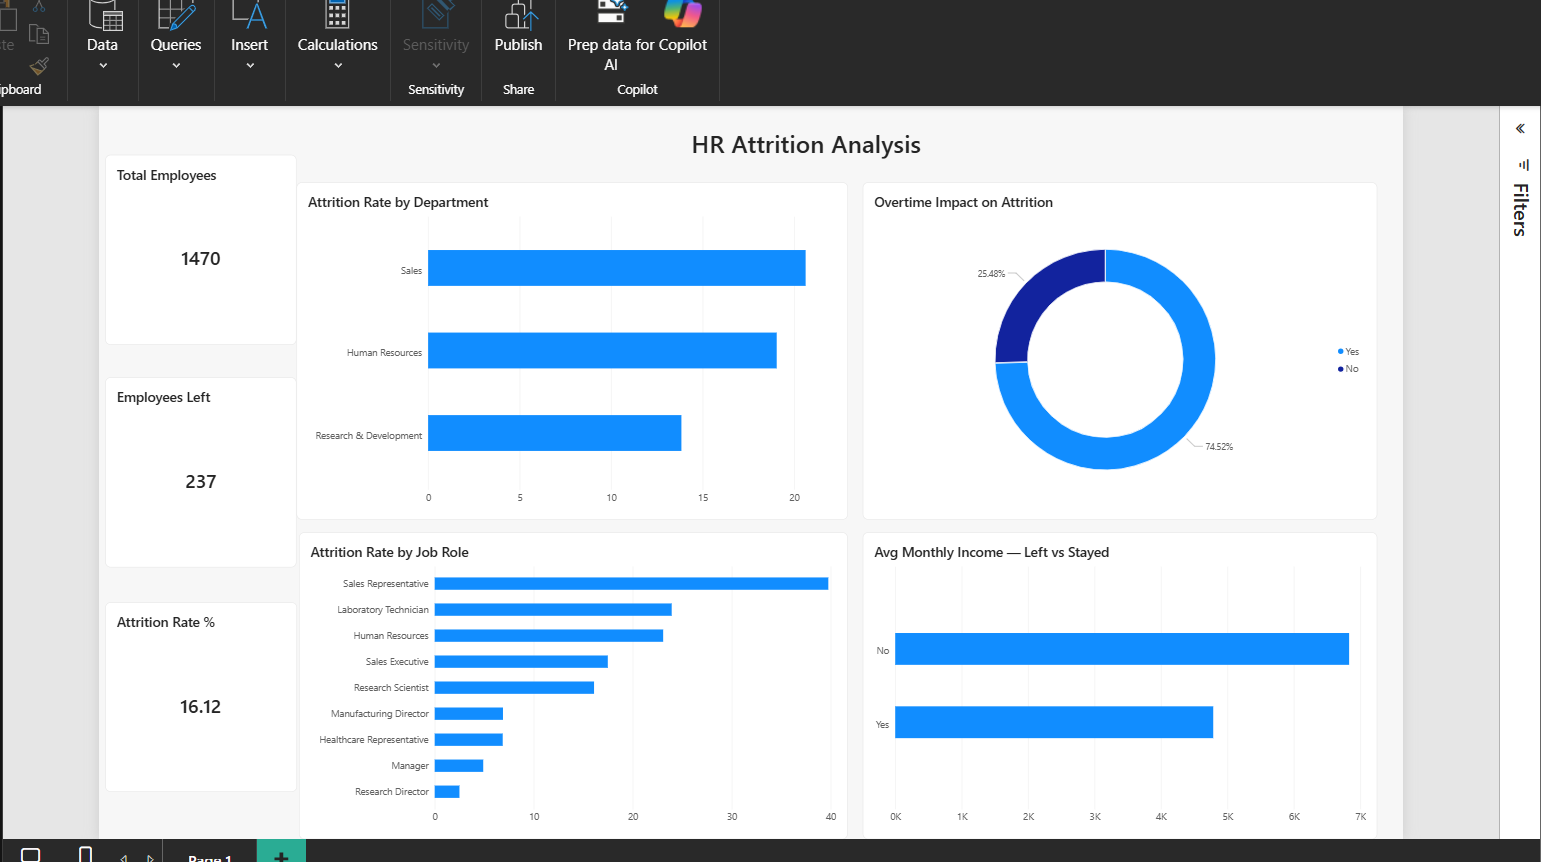

The page's visual inventory and layout, read from the dashboard file:
{"tool":"powerbi","page":{"name":"Page 1","canvas":[1920,1080],"ordinal":0},"visuals":[{"type":"card","title":"Total Employees","fields":{"Values":["CountNonNull(WA_Fn-UseC_-HR-Employee-Attrition.EmployeeCount)"]},"box":[9.3,70.9,281.8,279.9],"z":0},{"type":"card","title":"Employees Left","fields":{"Values":["WA_Fn-UseC_-HR-Employee-Attrition.Employees_Left"]},"box":[9.3,399.4,281.8,279.9],"z":1000},{"type":"card","title":"Attrition Rate  %","fields":{"Values":["WA_Fn-UseC_-HR-Employee-Attrition.Attrition_Rate"]},"box":[8.6,730.9,282,279.1],"z":2000},{"type":"clusteredBarChart","title":"Attrition Rate by Department","fields":{"Category":["WA_Fn-UseC_-HR-Employee-Attrition.Department"],"Y":["WA_Fn-UseC_-HR-Employee-Attrition.Attrition_Rate"]},"box":[291.1,112,811.8,496.4],"z":3000},{"type":"donutChart","title":"Overtime Impact on Attrition","fields":{"Category":["WA_Fn-UseC_-HR-Employee-Attrition.OverTime"],"Y":["WA_Fn-UseC_-HR-Employee-Attrition.Attrition_Rate"]},"box":[1125.4,112,757.7,496.4],"z":4000},{"type":"clusteredBarChart","title":"Attrition Rate by Job Role","fields":{"Category":["WA_Fn-UseC_-HR-Employee-Attrition.JobRole"],"Y":["WA_Fn-UseC_-HR-Employee-Attrition.Attrition_Rate"]},"box":[294.9,627.1,808.1,451.6],"z":5000},{"type":"clusteredBarChart","title":"Avg Monthly Income — Left vs Stayed","fields":{"Category":["WA_Fn-UseC_-HR-Employee-Attrition.Attrition"],"Y":["Avg(WA_Fn-UseC_-HR-Employee-Attrition.MonthlyIncome)"]},"box":[1125.4,627.1,757.7,451.6],"z":6000},{"type":"textbox","title":"HR Attrition Analysis","box":[872,28.8,460.4,83.5],"z":7000}]}

Visuals, with their boxes in screenshot pixels (x1, y1, x2, y2):
"Total Employees" card: pyautogui.locateOnScreen(0, 70, 213, 283)
"Employees Left" card: pyautogui.locateOnScreen(0, 320, 213, 532)
"Attrition Rate  %" card: pyautogui.locateOnScreen(0, 571, 213, 784)
"Attrition Rate by Department" clusteredBarChart: pyautogui.locateOnScreen(213, 101, 830, 478)
"Overtime Impact on Attrition" donutChart: pyautogui.locateOnScreen(847, 101, 1423, 478)
"Attrition Rate by Job Role" clusteredBarChart: pyautogui.locateOnScreen(216, 493, 830, 836)
"Avg Monthly Income — Left vs Stayed" clusteredBarChart: pyautogui.locateOnScreen(847, 493, 1423, 836)
"HR Attrition Analysis" textbox: pyautogui.locateOnScreen(655, 38, 1004, 101)
